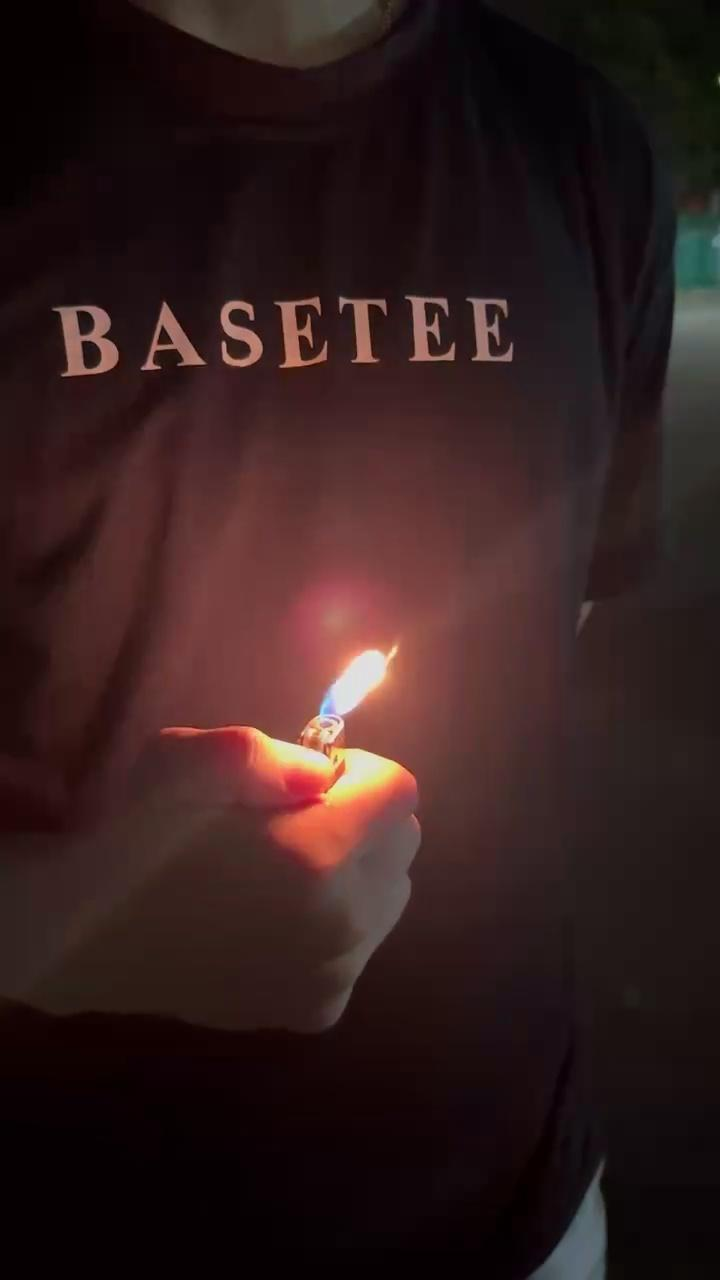Fire: (310, 620, 437, 750)
